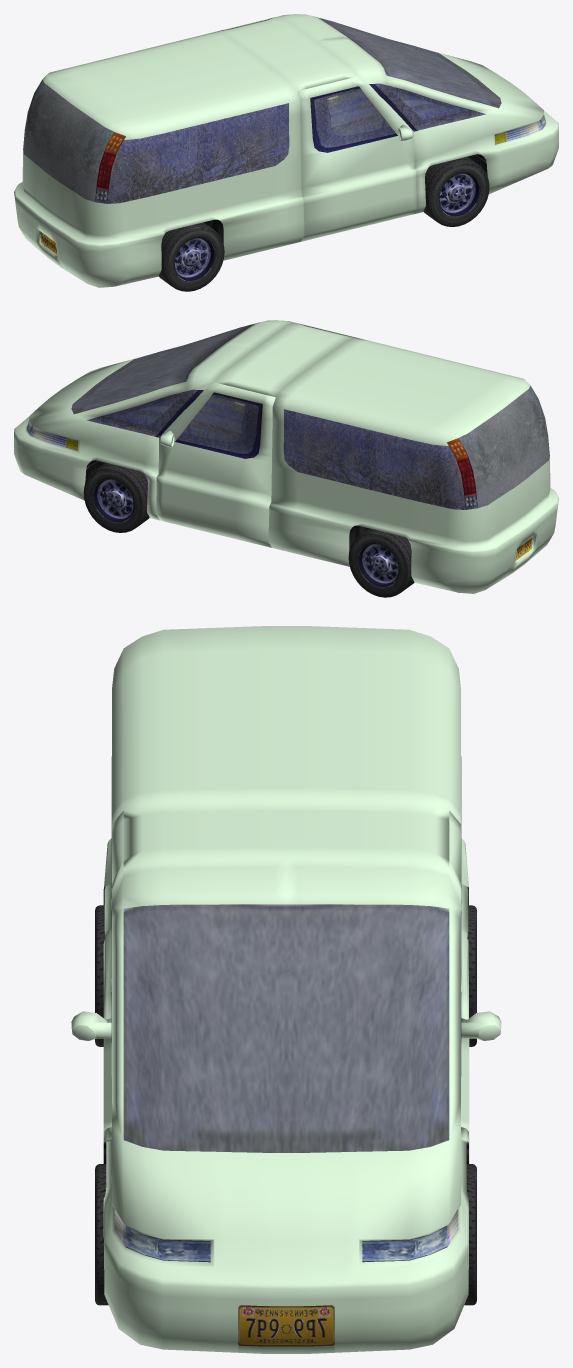
Rendered from Van new.fbx.
3 renders of one model, top to bottom at view 1: azimuth 30°, elevation 25°; view 2: azimuth 150°, elevation 25°; view 3: azimuth 270°, elevation 25°, orthographic. The views are drawn at different scales.
Visible parts, largest first — view 1: Van, Door R, Back Wheels.001, Back Wheels; view 2: Van, Door L, Back Wheels.001, Back Wheels; view 3: Van, Door L, Back Wheels.001, Door R, Back Wheels.
Boxes of the visible parts, box(x1,y1,x2,y2) form: Van: box(14, 14, 558, 287); Door R: box(297, 76, 416, 241); Back Wheels.001: box(423, 156, 489, 226); Back Wheels: box(158, 222, 224, 291); Van: box(14, 320, 558, 593); Door L: box(156, 382, 275, 547); Back Wheels.001: box(83, 463, 149, 532); Back Wheels: box(348, 528, 414, 597); Van: box(103, 626, 468, 1353); Door L: box(449, 811, 501, 1163); Back Wheels.001: box(95, 1164, 476, 1305); Door R: box(71, 811, 123, 1131); Back Wheels: box(95, 905, 476, 1046).
Size of the model in its own units: 1143 by 389 by 437.
